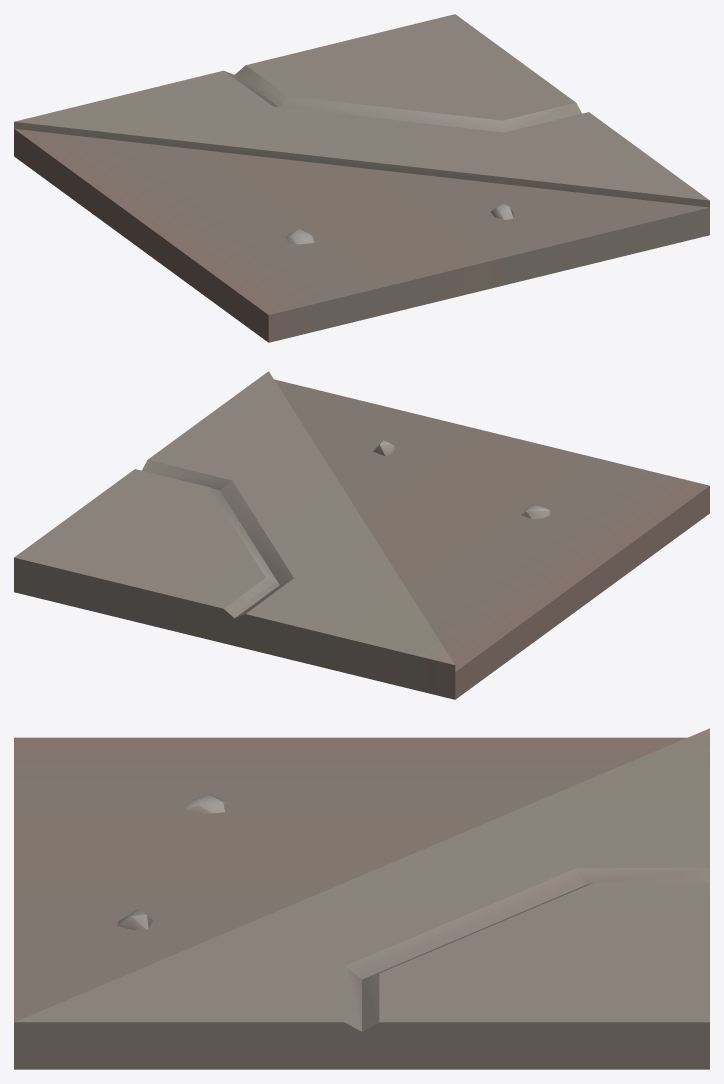
Rendered from floor_dirt_small_corner.glb.
3 views of the same model, one above another, from view 1: azimuth 30°, elevation 25°; view 2: azimuth 150°, elevation 25°; view 3: azimuth 270°, elevation 25° (orthographic). The views are drawn at different scales.
Visible parts, largest first — view 1: floor_dirt_small_corner; view 2: floor_dirt_small_corner; view 3: floor_dirt_small_corner.
Boxes of the visible parts, bbox=[...] form: floor_dirt_small_corner: bbox=[14, 14, 709, 342]; floor_dirt_small_corner: bbox=[14, 371, 709, 699]; floor_dirt_small_corner: bbox=[14, 728, 709, 1069].
Size of the model in its own units: 2 by 0.1538 by 2.
Materials: 1 (1 with a texture image).
